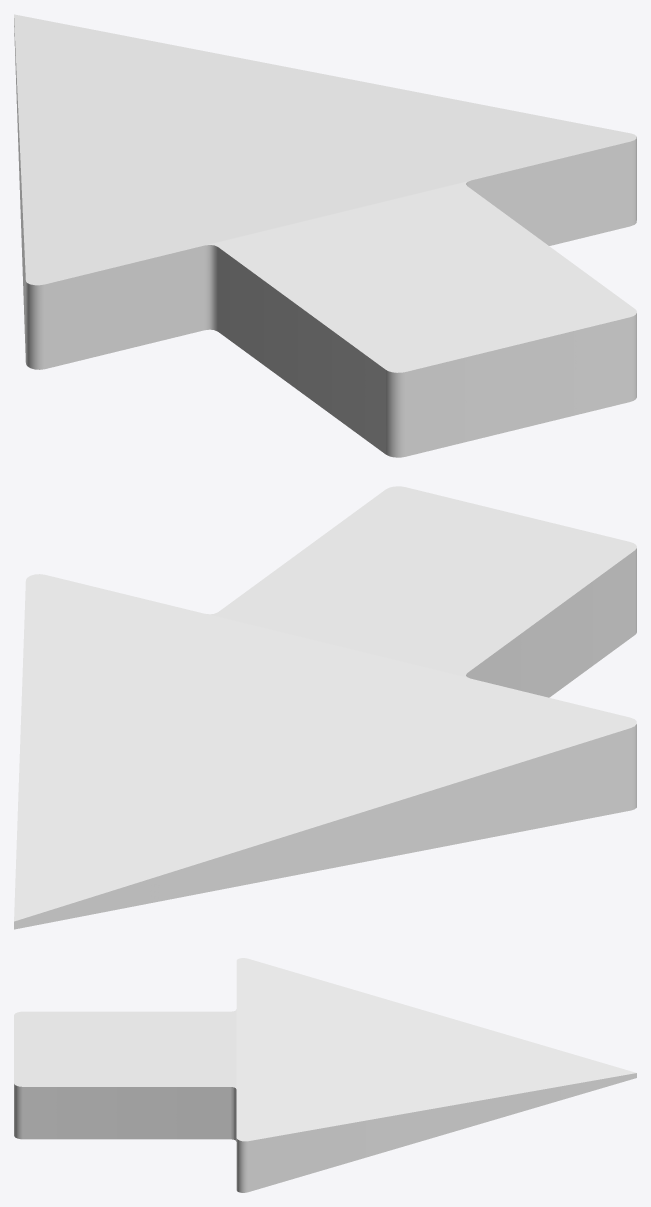
The model's file is Arrow_001.fbx.
The picture shows the model from 3 angles, top to bottom: view 1: azimuth 30°, elevation 25°; view 2: azimuth 150°, elevation 25°; view 3: azimuth 270°, elevation 25°; orthographic projection. The views are drawn at different scales.
Visible parts, largest first — view 1: polySurface5; view 2: polySurface5; view 3: polySurface5.
Part boxes in pixels (box(x1,y1,x2,y2)): polySurface5: box(14, 14, 636, 457); polySurface5: box(14, 486, 636, 929); polySurface5: box(14, 958, 636, 1192).
Size of the model in its own units: 9.75 by 1.3 by 14.
